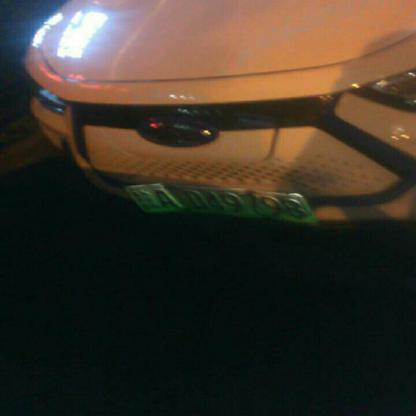lp: (126, 185, 318, 223)
